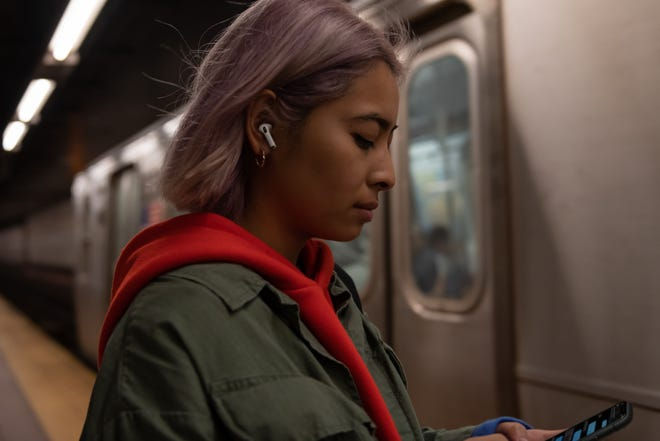earphone: (245, 89, 279, 157)
